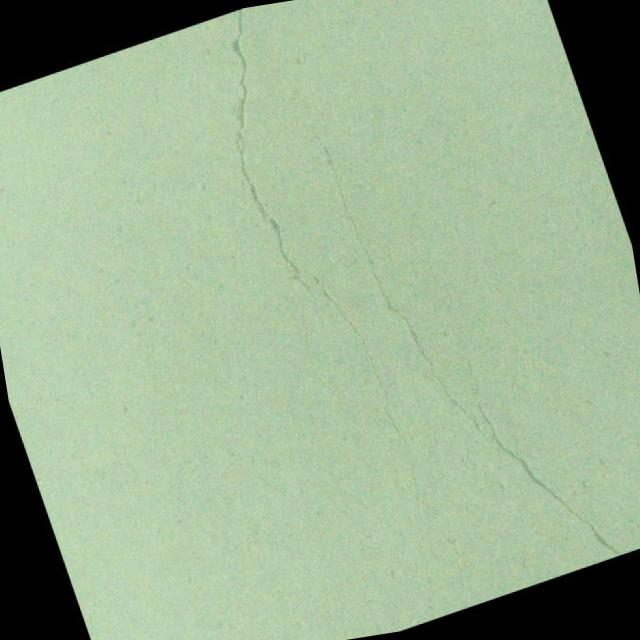crack: (277, 0, 628, 622), (191, 0, 458, 591), (439, 523, 480, 610), (332, 274, 372, 308)
